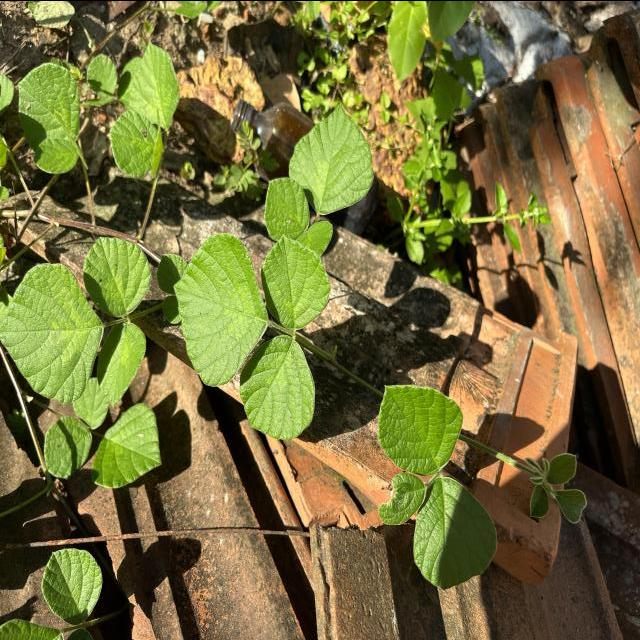Pseudarthria viscida: (172, 230, 332, 440), (0, 234, 154, 411), (375, 381, 499, 591)
